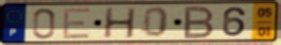0: (142, 6, 170, 40), (32, 7, 58, 40)
6: (222, 6, 248, 38)
B: (181, 5, 217, 40)
E: (61, 7, 93, 40)
H: (101, 7, 137, 40)
